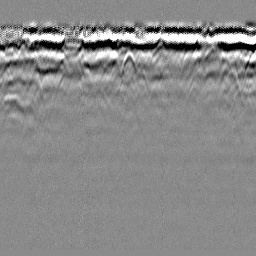cavity: (120, 47, 135, 75)
